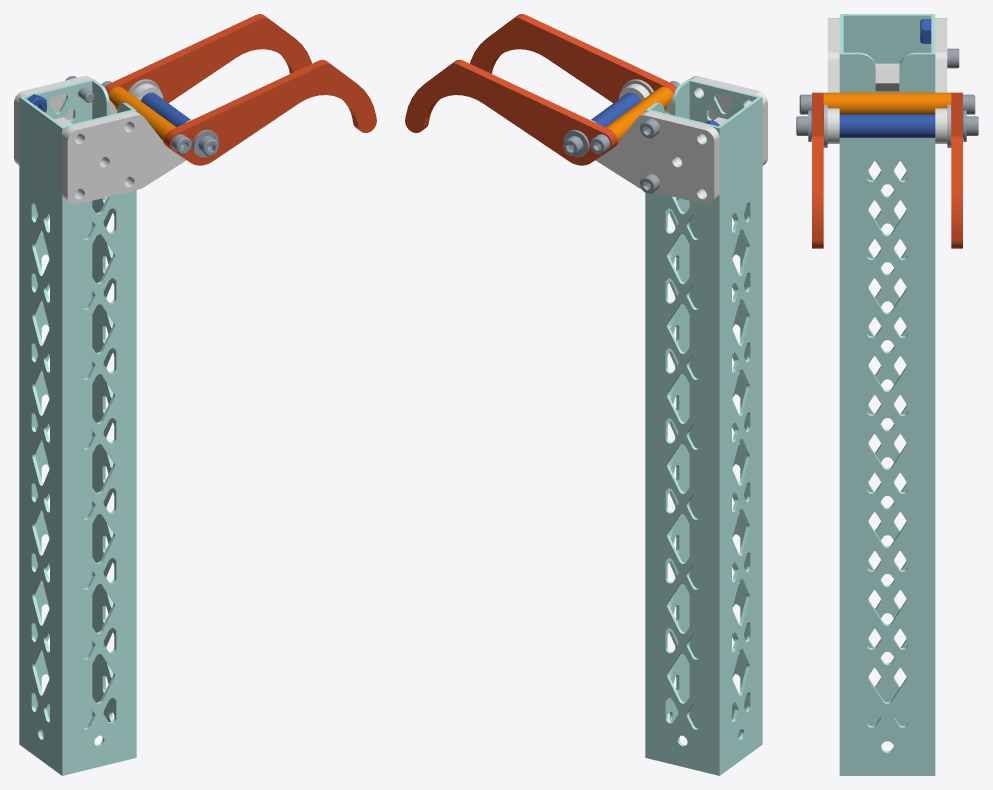
The picture shows the model from 3 angles, left to right: view 1: azimuth 30°, elevation 25°; view 2: azimuth 150°, elevation 25°; view 3: azimuth 270°, elevation 25°; orthographic projection. The views are drawn at different scales.
Visible parts, largest first — view 1: 1.5" Tube, Upper Hook (×2), Shoulder Bolt Spacer (×2), Hook Spacer, Pivot Shaft; view 2: 1.5" Tube, Upper Hook (×2), Shoulder Bolt Spacer (×2), Hook Spacer, Pivot Shaft; view 3: 1.5" Tube, Upper Hook (×2), Shoulder Bolt Spacer (×2), Hook Spacer, Pivot Shaft, #10-32 Aluminum Standoff (3/8" Hex, 1 3/8" L).
Boxes of the visible parts, left/top/right/bottom form: 1.5" Tube: left=19, top=79, right=136, bottom=775; Upper Hook (×2): left=105, top=14, right=376, bottom=165; Shoulder Bolt Spacer (×2): left=14, top=76, right=193, bottom=204; Hook Spacer: left=108, top=86, right=176, bottom=145; Pivot Shaft: left=141, top=92, right=190, bottom=126; 1.5" Tube: left=645, top=79, right=762, bottom=775; Upper Hook (×2): left=405, top=14, right=676, bottom=165; Shoulder Bolt Spacer (×2): left=588, top=76, right=767, bottom=204; Hook Spacer: left=605, top=86, right=673, bottom=145; Pivot Shaft: left=591, top=92, right=640, bottom=126; 1.5" Tube: left=839, top=14, right=935, bottom=775; Upper Hook (×2): left=812, top=92, right=962, bottom=248; Shoulder Bolt Spacer (×2): left=827, top=18, right=947, bottom=143; Hook Spacer: left=823, top=92, right=951, bottom=114; Pivot Shaft: left=811, top=114, right=963, bottom=137; #10-32 Aluminum Standoff (3/8" Hex, 1 3/8" L): left=875, top=63, right=899, bottom=91.
Bounding box in the file's own units: 0.155 × 0.3236 × 0.0727.
